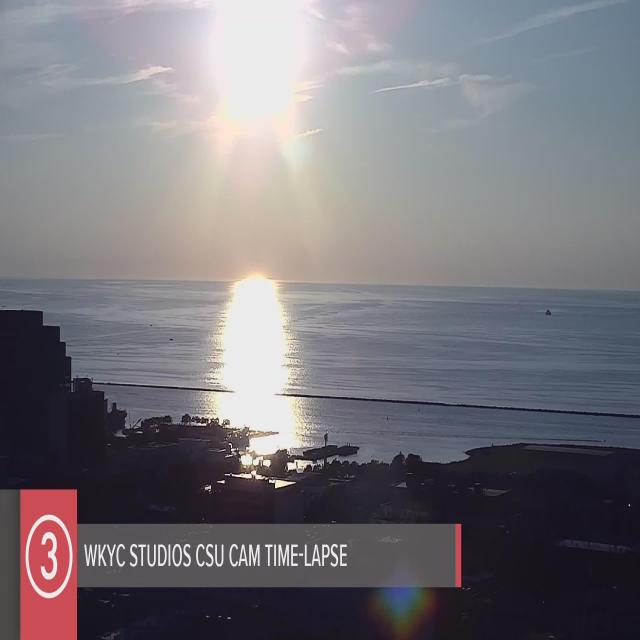other: (189, 245, 323, 452), (197, 1, 321, 138)
